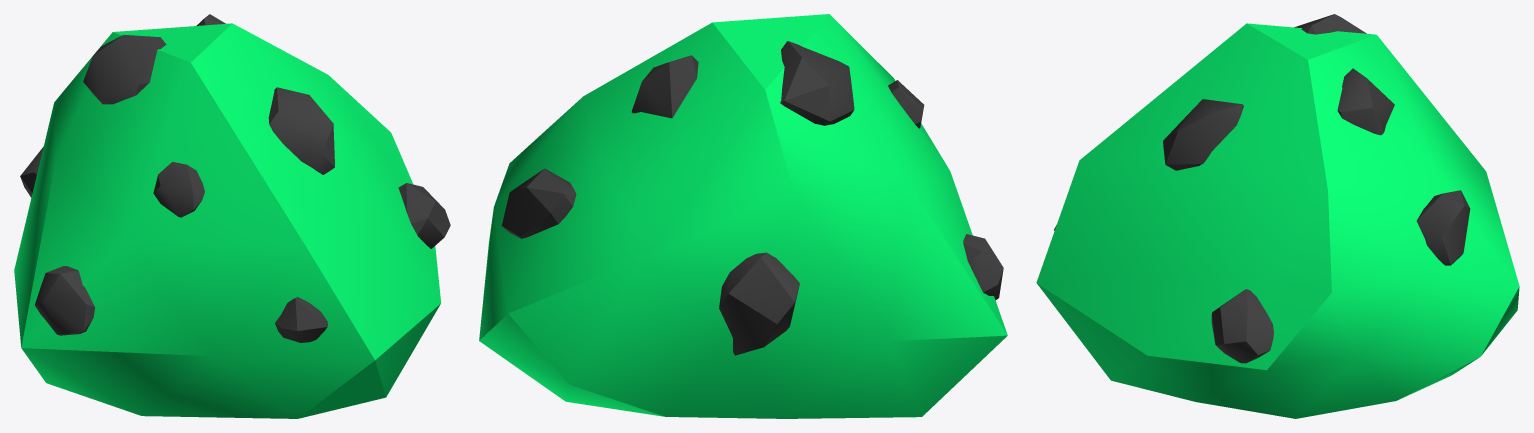
The model's file is Coal.fbx.
3 renders of one model, left to right at view 1: azimuth 30°, elevation 25°; view 2: azimuth 150°, elevation 25°; view 3: azimuth 270°, elevation 25°, orthographic. The views are drawn at different scales.
Visible parts, largest first — view 1: Coal; view 2: Coal; view 3: Coal.
Part boxes in pixels (left/top/right/bottom): Coal: left=14, top=14, right=450, bottom=418; Coal: left=479, top=14, right=1007, bottom=418; Coal: left=1036, top=14, right=1519, bottom=418.
Bounding box in the file's own units: 101 × 74.76 × 106.
